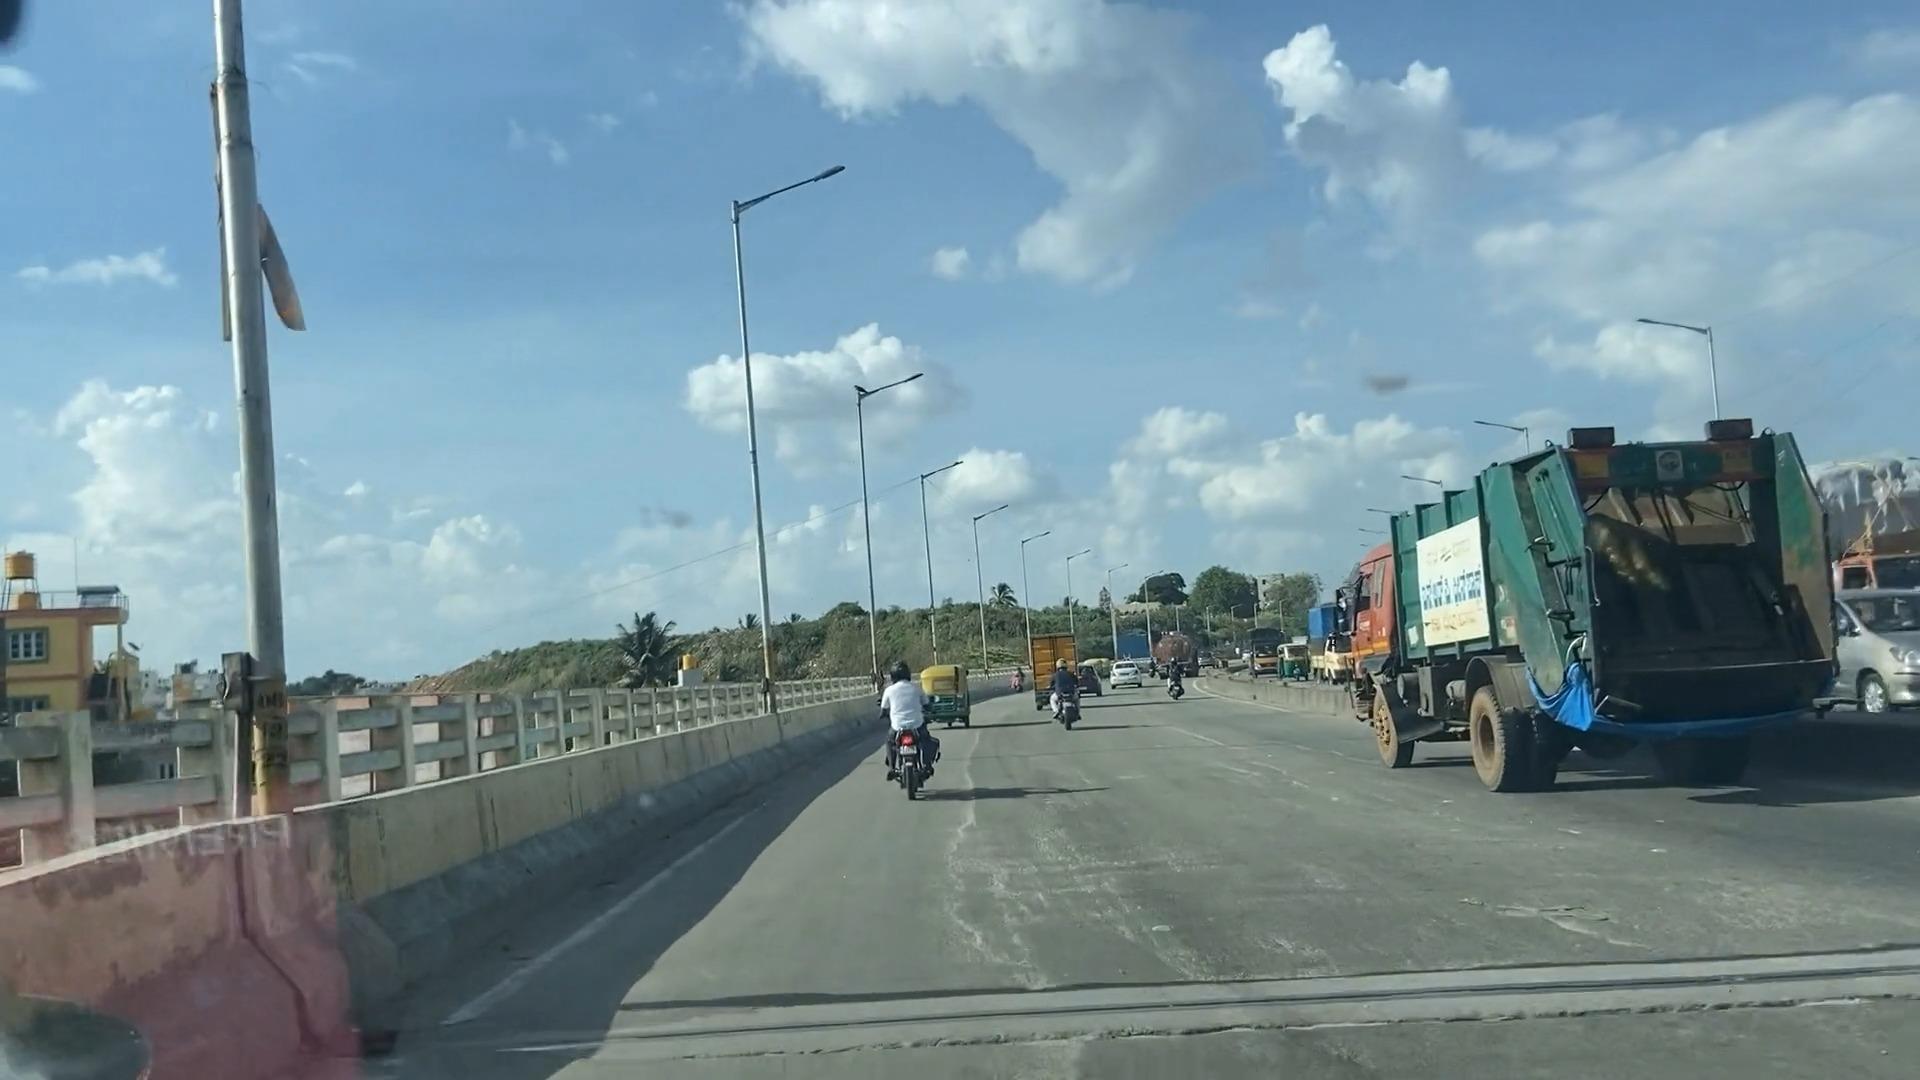HMV: (1300, 428, 1801, 831)
